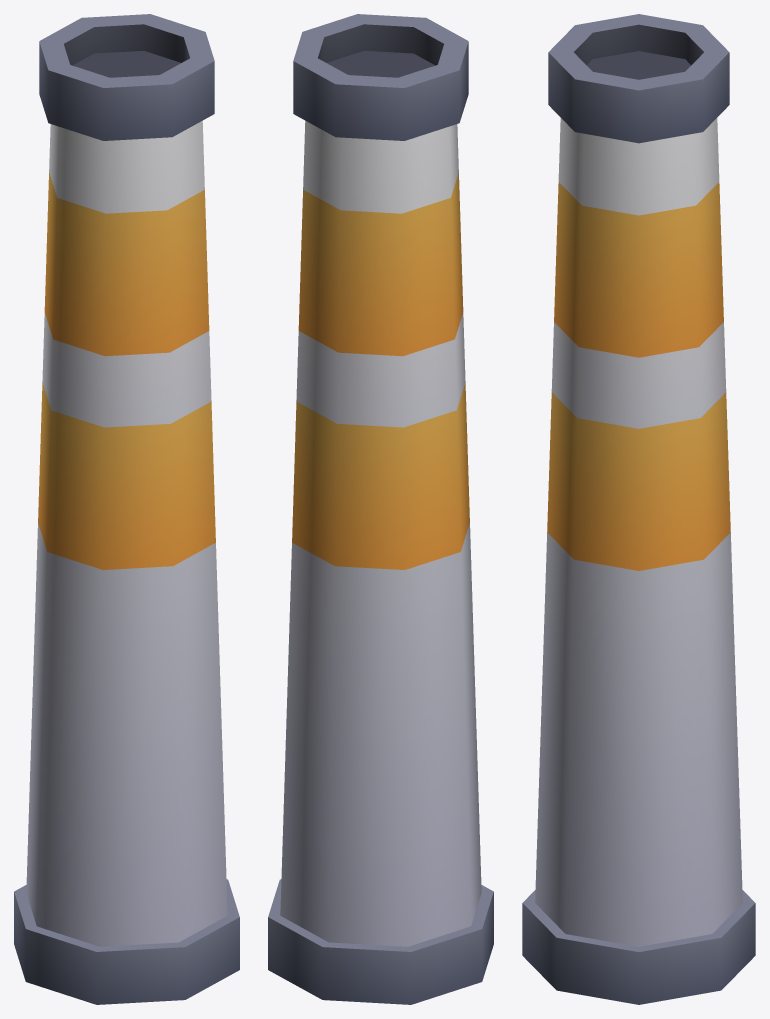
Rendered from chimney-medium_lev1.glb.
The picture shows the model from 3 angles, left to right: view 1: azimuth 30°, elevation 25°; view 2: azimuth 150°, elevation 25°; view 3: azimuth 270°, elevation 25°; orthographic projection.
Parts seen in each view (by area): view 1: chimney-medium_lev1; view 2: chimney-medium_lev1; view 3: chimney-medium_lev1.
Part boxes in pixels (left/top/right/bottom): chimney-medium_lev1: left=14, top=14, right=239, bottom=1004; chimney-medium_lev1: left=268, top=14, right=493, bottom=1004; chimney-medium_lev1: left=522, top=14, right=755, bottom=1004.
Size of the model in its own units: 0.45 by 1.92 by 0.45.
1 material, 1 textured.
